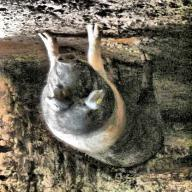boar: (36, 24, 166, 169)
